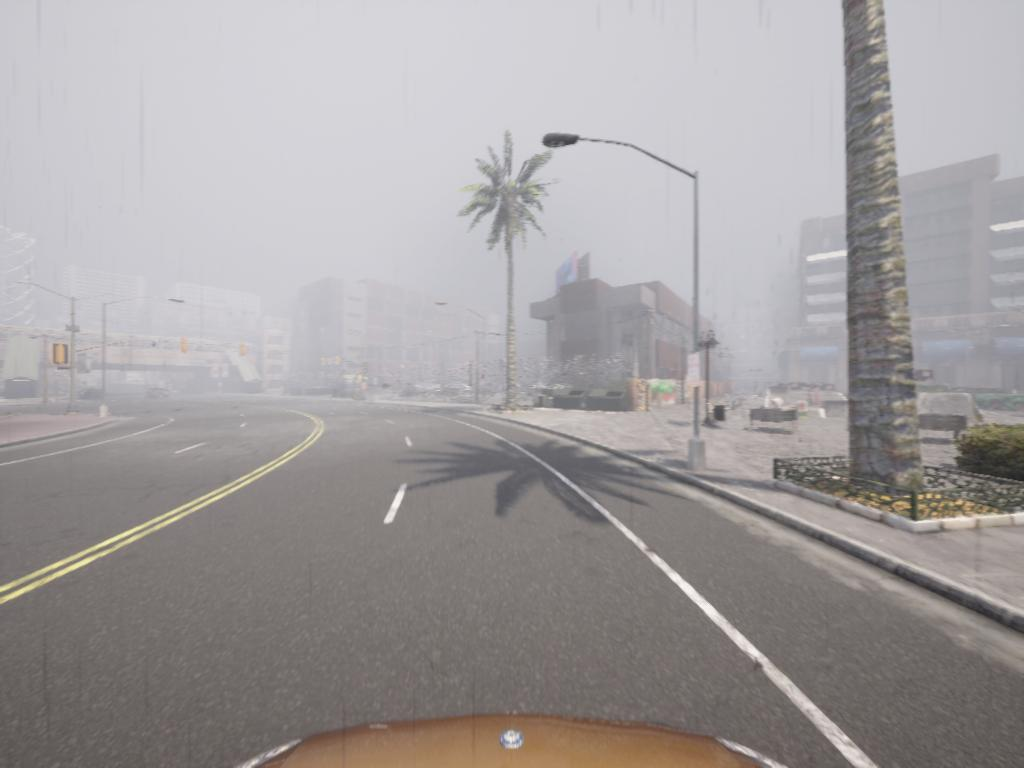traffic_light: (182, 337, 189, 356), (240, 344, 247, 359)
